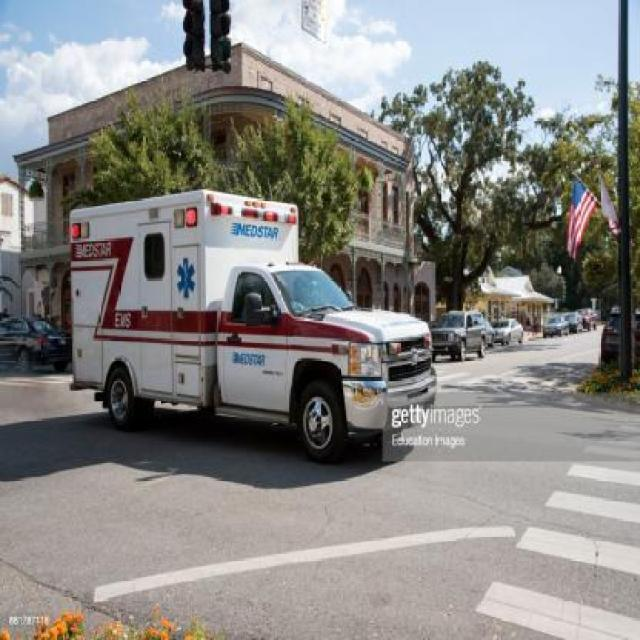emergency: (66, 188, 438, 464)
